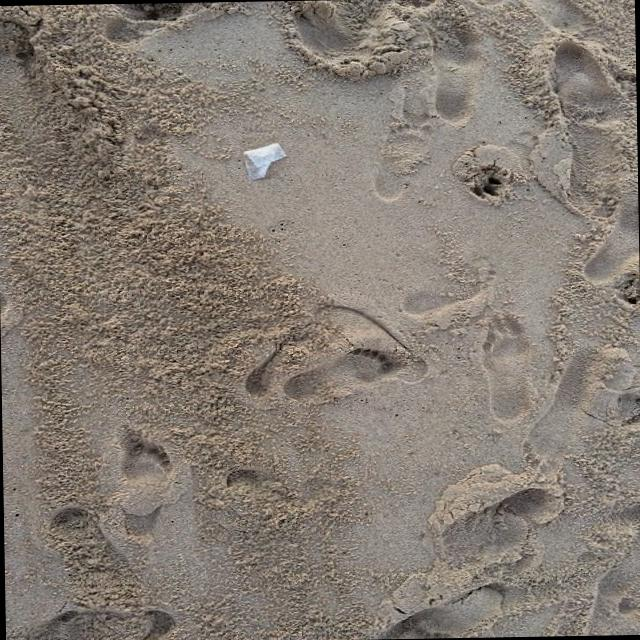Recycle: (238, 147, 292, 180)
